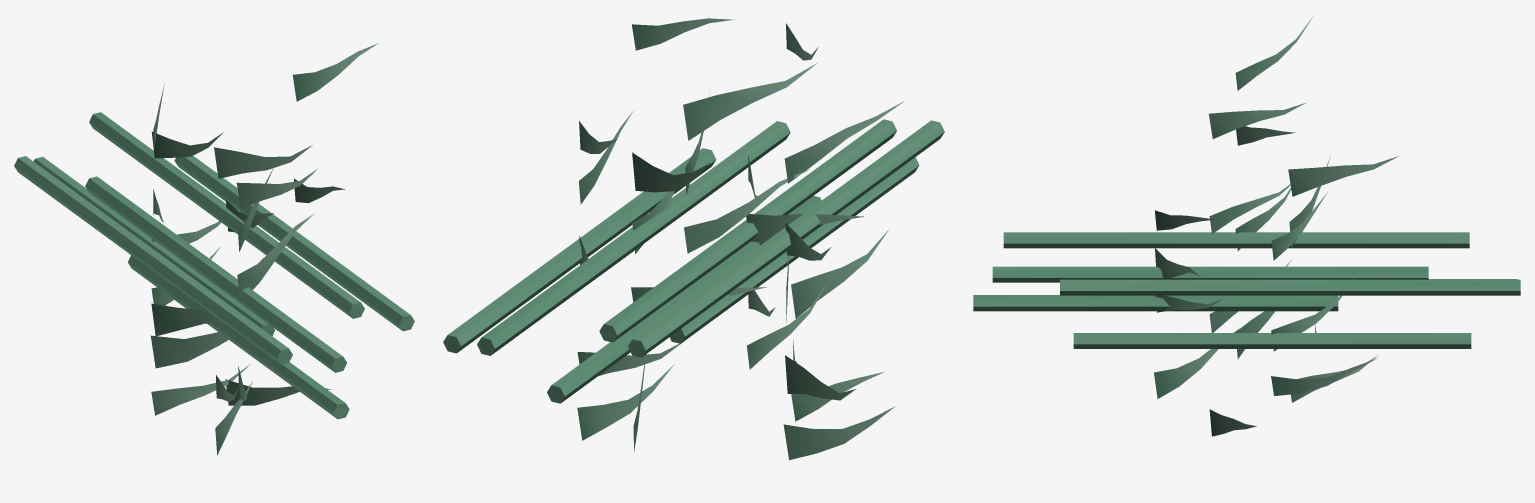
The model's file is mesh-plant-046-corkscrew-stem_LOD1.glb.
The picture shows the model from 3 angles, left to right: view 1: azimuth 30°, elevation 25°; view 2: azimuth 150°, elevation 25°; view 3: azimuth 270°, elevation 25°; orthographic projection. The views are drawn at different scales.
Parts seen in each view (by area): view 1: geometry_0; view 2: geometry_0; view 3: geometry_0.
Part boxes in pixels (bbox=[...]): geometry_0: bbox=[14, 43, 414, 455]; geometry_0: bbox=[443, 18, 944, 460]; geometry_0: bbox=[973, 16, 1520, 436].
Size of the model in its own units: 0.8537 by 1.02 by 1.35.
